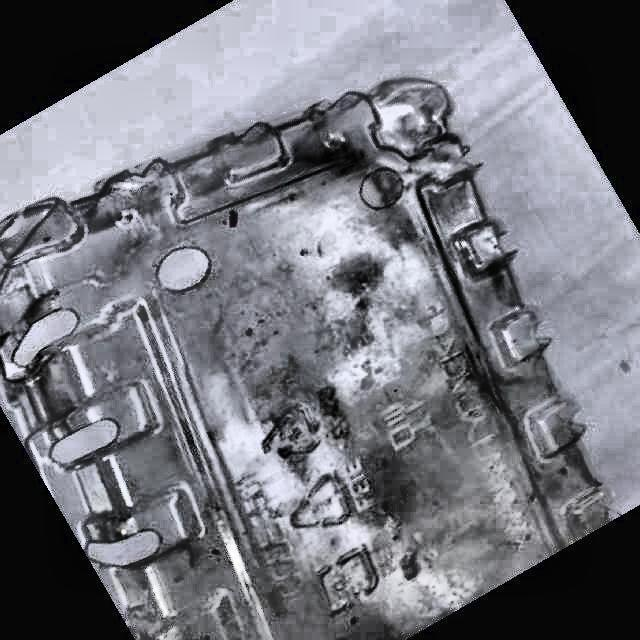plastic: (0, 78, 612, 640)
